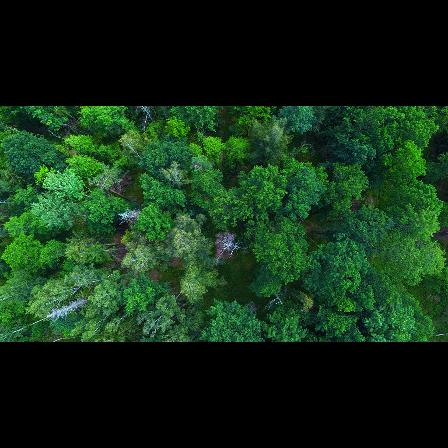Dead: (42, 297, 88, 320), (92, 177, 131, 203), (211, 231, 245, 257), (134, 106, 159, 131), (118, 209, 143, 225)
